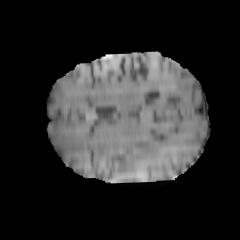glioma: (52, 129, 172, 183)
